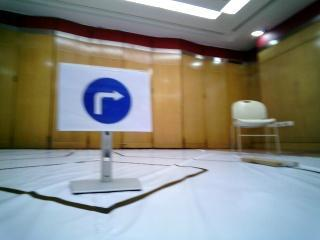right: (57, 62, 151, 132)
